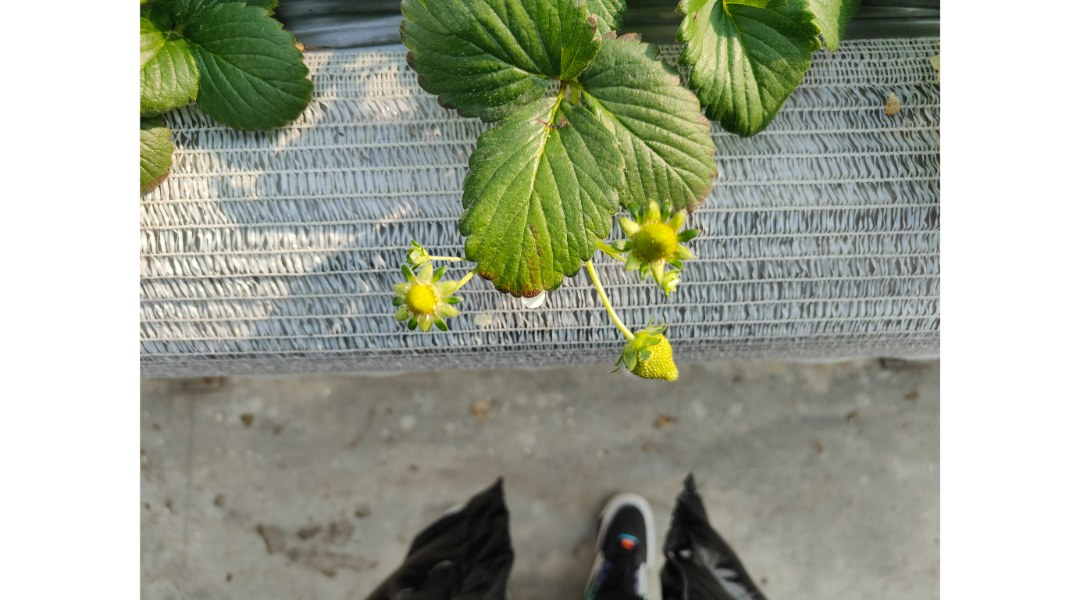berry: (606, 197, 708, 286), (370, 248, 465, 339), (613, 319, 687, 402), (393, 235, 437, 276)
strain: (581, 256, 631, 333)
